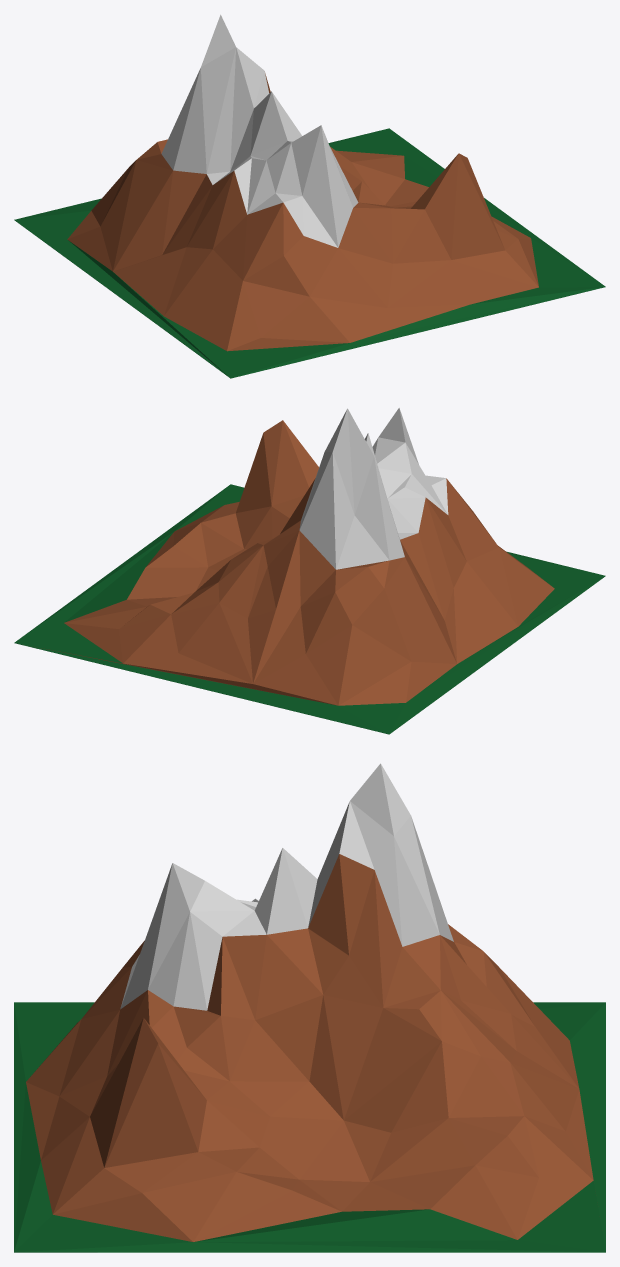
The model's file is Mountain02.fbx.
3 renders of one model, top to bottom at view 1: azimuth 30°, elevation 25°; view 2: azimuth 150°, elevation 25°; view 3: azimuth 270°, elevation 25°, orthographic. The views are drawn at different scales.
Parts seen in each view (by area): view 1: Mountain02; view 2: Mountain02; view 3: Mountain02.
Boxes of the visible parts, x1,y1,x2,y2 form: Mountain02: (14,14,605,378); Mountain02: (14,408,605,734); Mountain02: (14,763,605,1252).
Bounding box in the file's own units: 18000 × 10807 × 18000.
